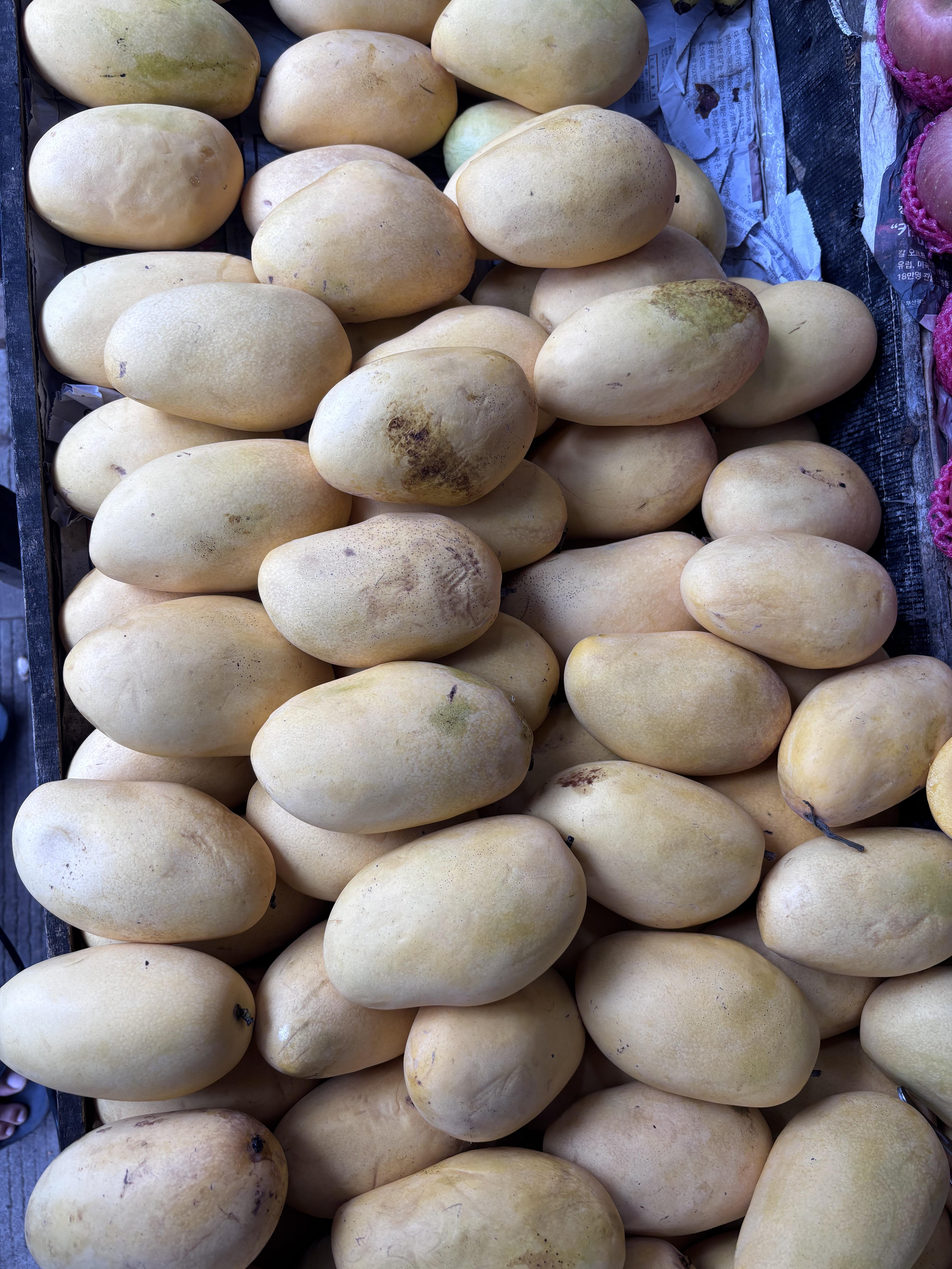mango: (324, 815, 586, 1009), (251, 661, 532, 834), (13, 779, 275, 943), (575, 931, 819, 1107), (0, 943, 255, 1102), (258, 513, 501, 668), (104, 282, 351, 432), (309, 346, 536, 507), (453, 105, 676, 268), (252, 160, 475, 323), (535, 279, 768, 426), (564, 632, 791, 776), (28, 103, 243, 250), (680, 532, 897, 669), (260, 29, 457, 159)
occluded: (64, 595, 333, 758), (25, 1109, 287, 1269), (524, 760, 766, 929), (89, 439, 351, 594), (735, 1091, 949, 1269), (543, 1081, 772, 1238), (332, 1148, 625, 1269), (404, 969, 585, 1142), (274, 1059, 465, 1218), (778, 655, 952, 826), (39, 251, 256, 387), (757, 828, 952, 977), (23, 0, 260, 120), (501, 531, 701, 669), (52, 398, 265, 517), (707, 281, 877, 428), (350, 459, 568, 573), (256, 921, 414, 1078), (431, 0, 648, 113), (703, 912, 882, 1040), (534, 416, 718, 540), (529, 225, 726, 333), (246, 782, 422, 900), (702, 441, 881, 551), (96, 1043, 318, 1129), (241, 144, 428, 235), (352, 305, 548, 390), (701, 754, 826, 881), (484, 702, 618, 815), (66, 730, 255, 807), (860, 966, 952, 1124), (762, 1032, 896, 1139), (439, 614, 559, 731), (58, 568, 193, 652), (344, 296, 471, 361), (271, 0, 448, 44), (666, 144, 726, 262), (443, 100, 535, 176), (443, 124, 524, 207), (763, 658, 854, 711), (472, 262, 544, 315), (926, 738, 952, 838), (912, 1209, 952, 1269), (623, 1237, 692, 1269), (685, 1231, 737, 1269), (727, 276, 773, 294), (470, 233, 496, 260), (534, 408, 555, 437), (858, 648, 889, 665)
